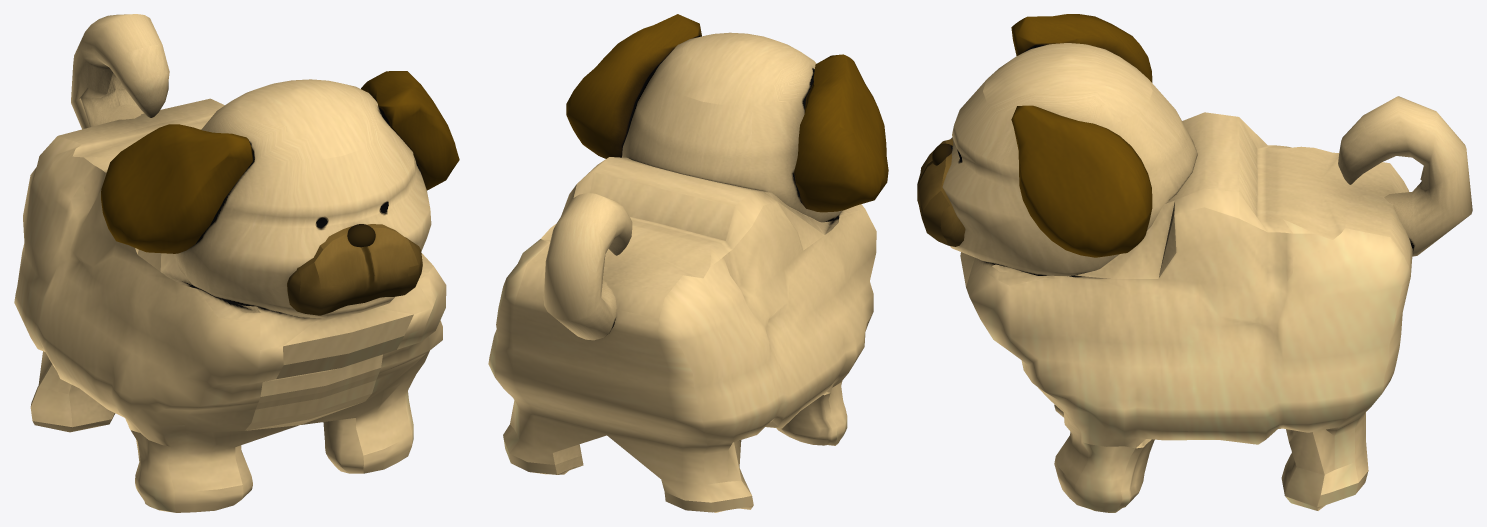
Rendered from pugModel.fbx.
3 renders of one model, left to right at view 1: azimuth 30°, elevation 25°; view 2: azimuth 150°, elevation 25°; view 3: azimuth 270°, elevation 25°, orthographic. The views are drawn at different scales.
Visible parts, largest first — view 1: body, head, ear, tail, face, nose; view 2: body, head, ear, tail; view 3: body, head, ear, tail, face.
Boxes of the visible parts, box(x1,y1,x2,y2) form: body: box(14, 98, 446, 512); head: box(174, 79, 431, 318); ear: box(101, 71, 459, 253); tail: box(71, 14, 169, 129); face: box(287, 224, 422, 315); nose: box(347, 224, 375, 247); body: box(488, 157, 876, 512); head: box(622, 32, 841, 222); ear: box(566, 14, 888, 212); tail: box(543, 193, 632, 340); body: box(960, 112, 1412, 512); head: box(942, 43, 1197, 276); ear: box(1011, 14, 1152, 257); tail: box(1338, 96, 1472, 256); face: box(917, 139, 965, 246).
Size of the model in its own units: 5.22 by 5.89 by 7.49.
6 materials, 6 textured.
